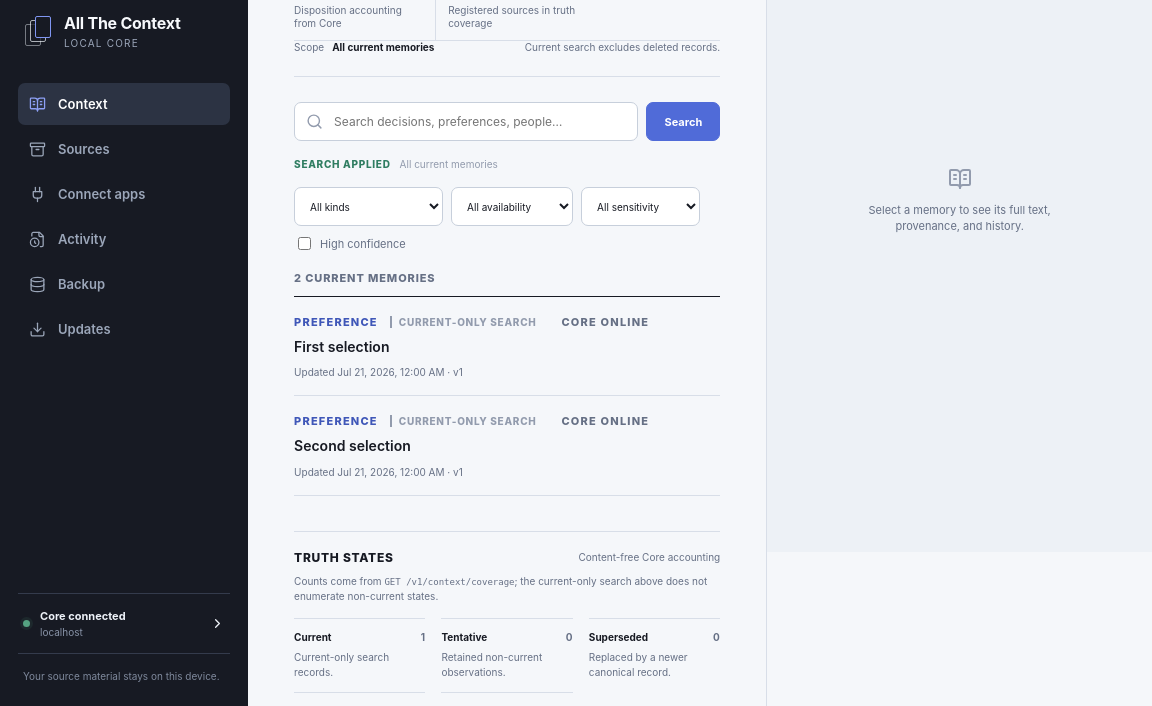
Test: dashboard › ignores a stale selected-truth response after the user chooses a newer row
(page scrolled)
What coordinates should you click on to do the following:
click the button "First selection"
I would click on:
 (336, 322)
Its box is left=294, top=297, right=720, bottom=396.
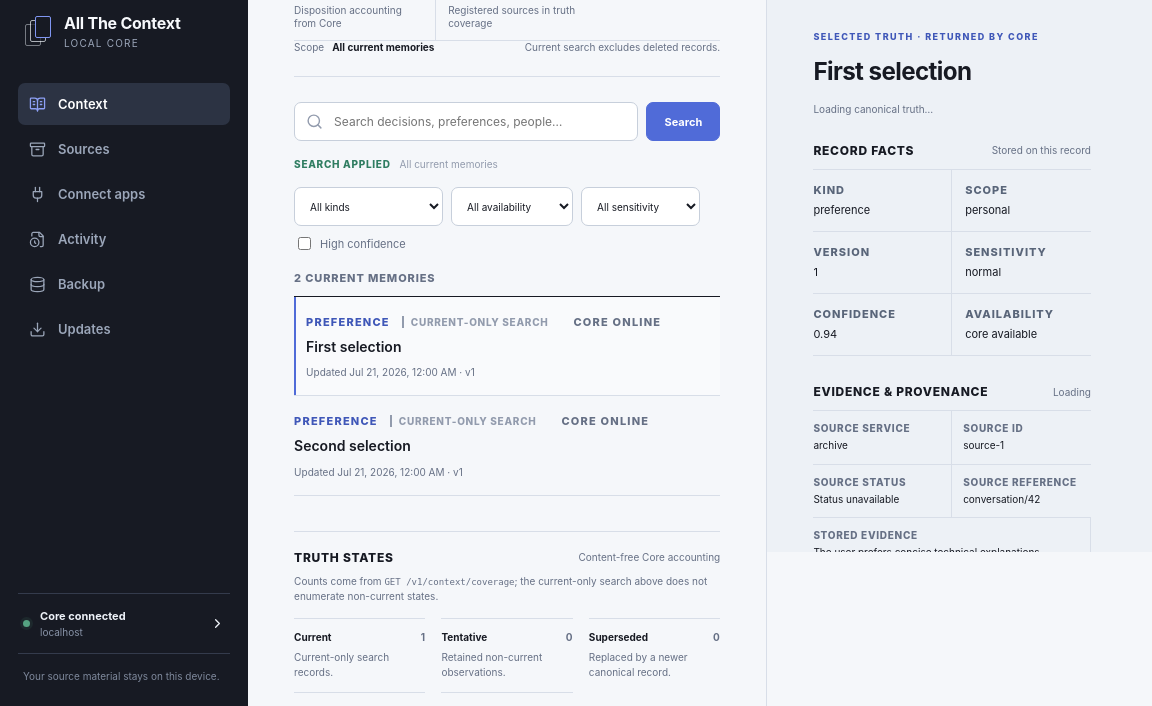
What coordinates should you click on to do the following:
click the button "Second selection"
I would click on:
 (336, 421)
Its box is left=294, top=396, right=720, bottom=496.
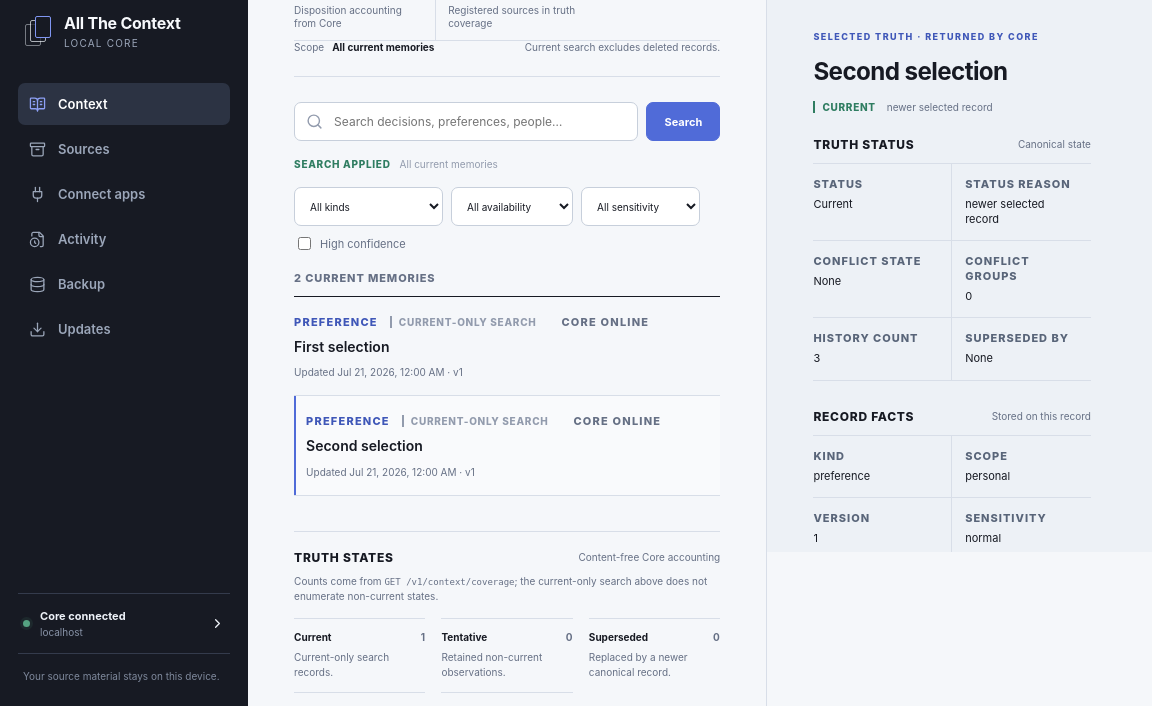
Expected: the text "newer selected record" below "Status reason" is shown, left=965, top=197, right=1045, bottom=226
